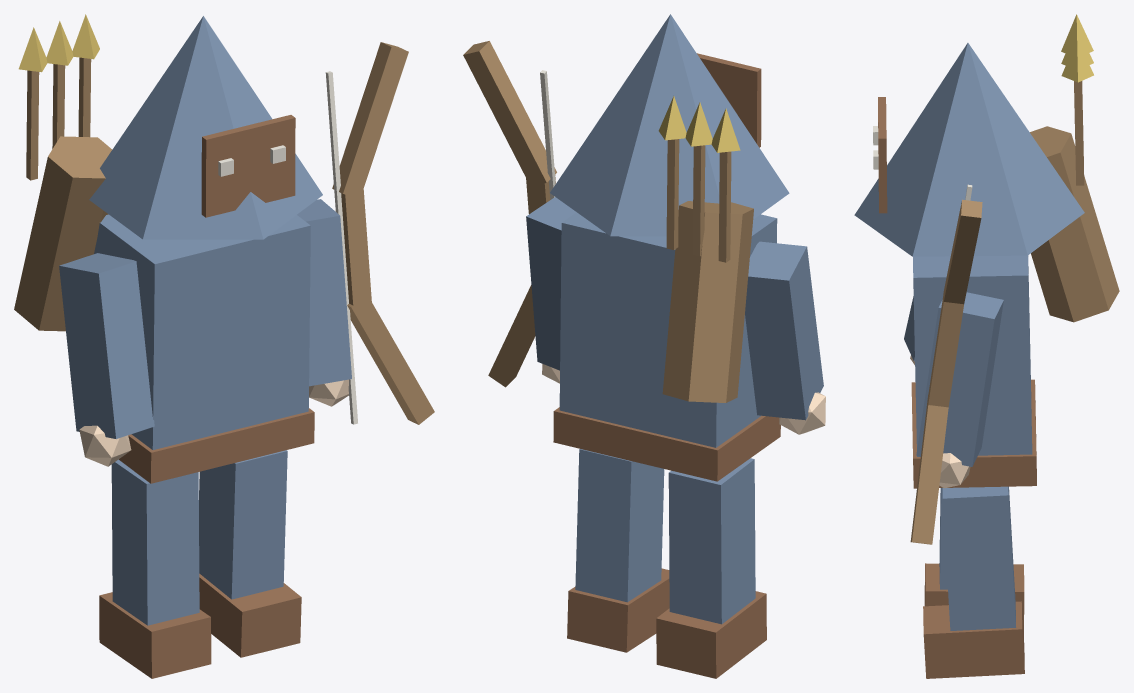
File: npcpose_archer_idle_04.glb
3 views of the same model, side by side, from view 1: azimuth 30°, elevation 25°; view 2: azimuth 150°, elevation 25°; view 3: azimuth 270°, elevation 25° (orthographic). The views are drawn at different scales.
Visible parts, largest first — view 1: npcpose; view 2: npcpose; view 3: npcpose.
Boxes of the visible parts, x1,y1,x2,y2 form: npcpose: (14, 14, 434, 678); npcpose: (463, 14, 825, 678); npcpose: (854, 14, 1119, 678).
Size of the model in its own units: 0.9094 by 1.61 by 0.6444.
